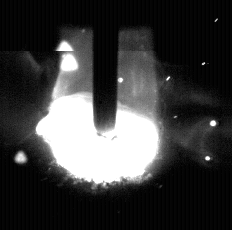arame: (94, 0, 118, 132)
poca: (43, 0, 161, 230)
